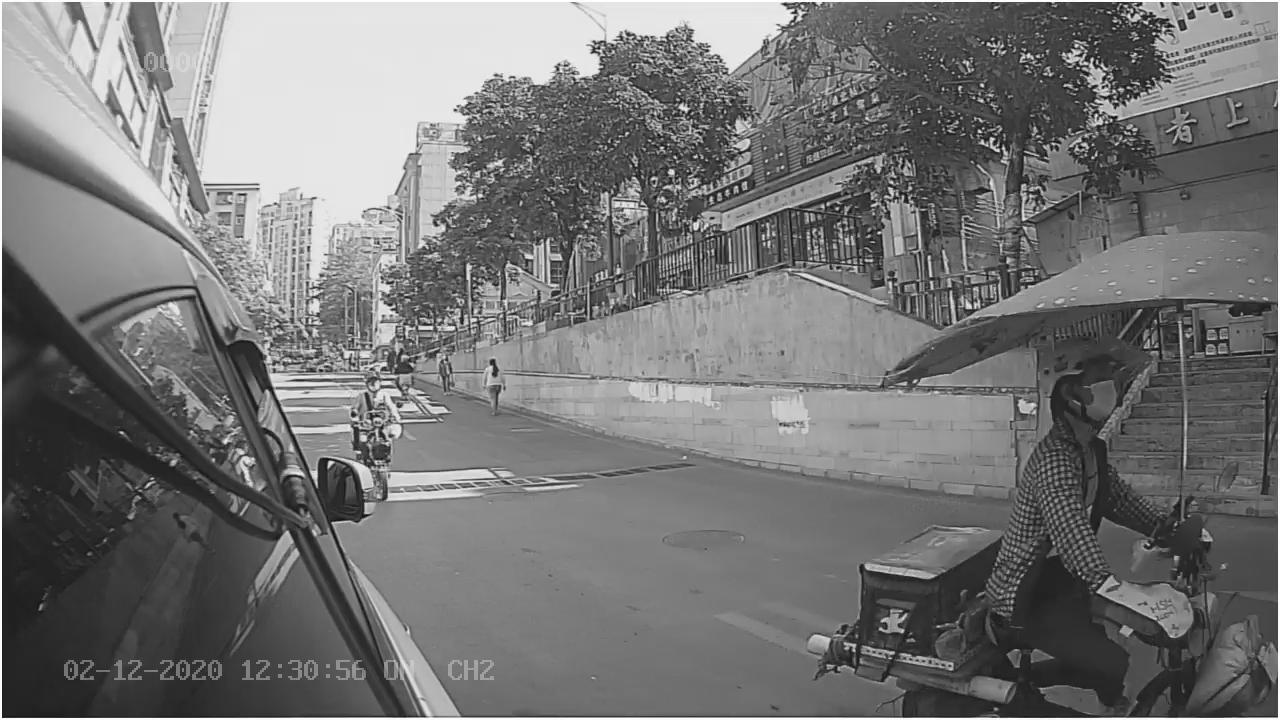person: (1005, 332, 1201, 606)
